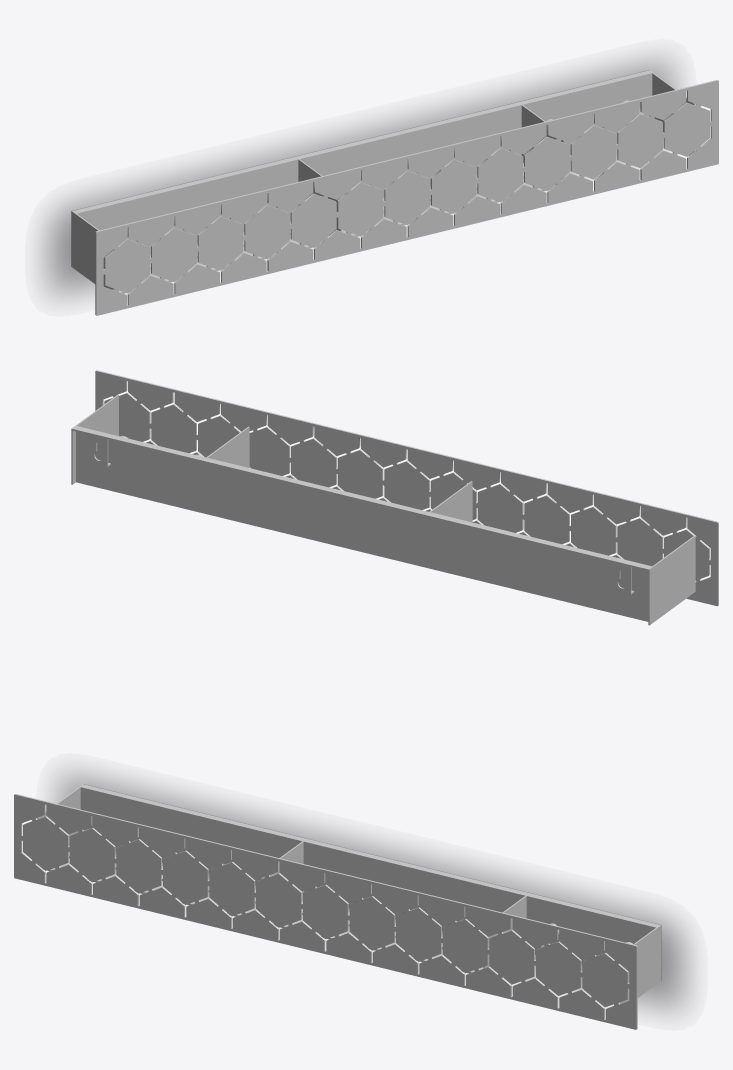
File: bee-patron.958f5eda1e.ar.glb
3 views of the same model, one above another, from view 1: azimuth 30°, elevation 25°; view 2: azimuth 150°, elevation 25°; view 3: azimuth 330°, elevation 25° (orthographic).
Parts seen in each view (by area): view 1: NAUO1, object 2; view 2: NAUO1; view 3: NAUO1, object 2.
Part boxes in pixels (<box>): NAUO1: <box>71,70,718,315</box>; object 2: <box>42,59,678,296</box>; NAUO1: <box>71,370,718,625</box>; NAUO1: <box>14,784,661,1029</box>; object 2: <box>54,773,690,1010</box>.
Bounding box in the file's own units: 0.78 × 0.17 × 0.092.
Materials: 2 (1 with a texture image).
